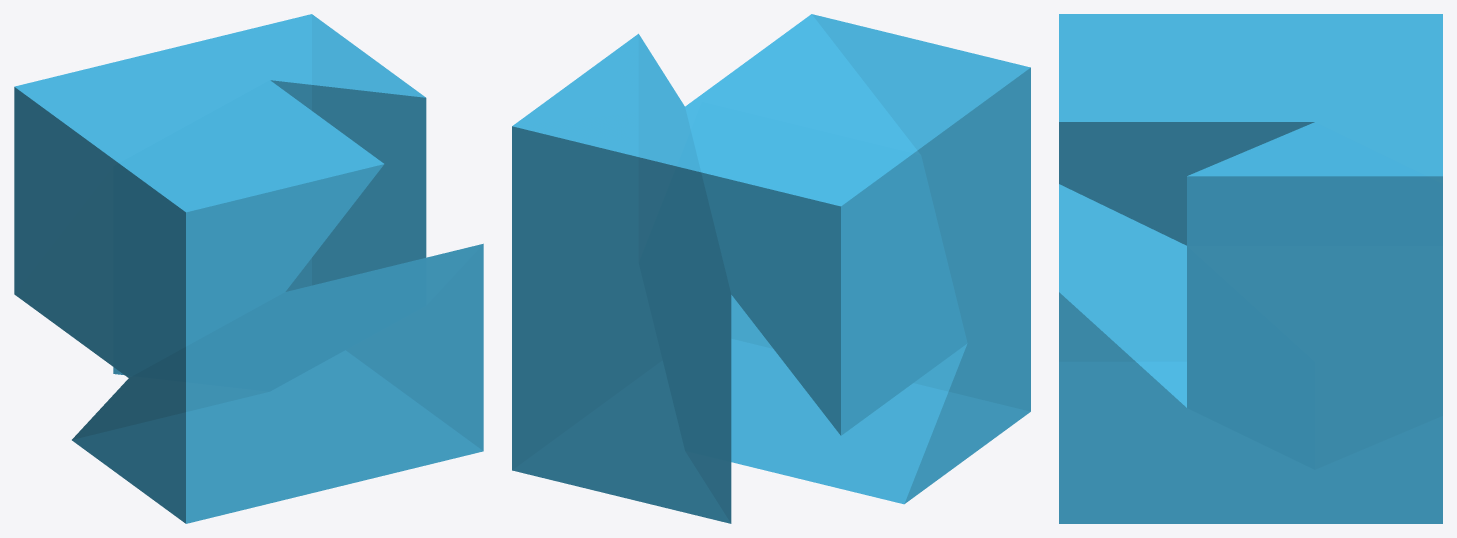
File: HexagonalToroid_B.obj
3 views of the same model, side by side, from view 1: azimuth 30°, elevation 25°; view 2: azimuth 150°, elevation 25°; view 3: azimuth 270°, elevation 25° (orthographic). The views are drawn at different scales.
Size of the model in its own units: 6 by 6 by 6.
